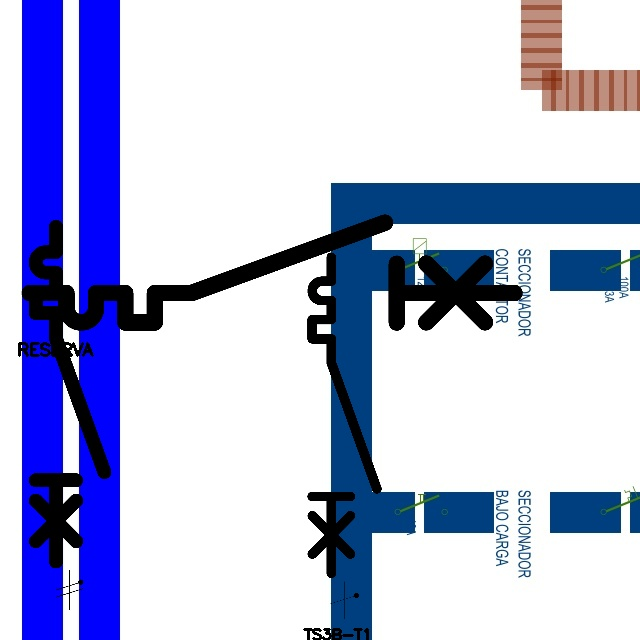interruptor_termomagnetico: (17, 210, 527, 335), (27, 218, 113, 570), (304, 249, 385, 582)
